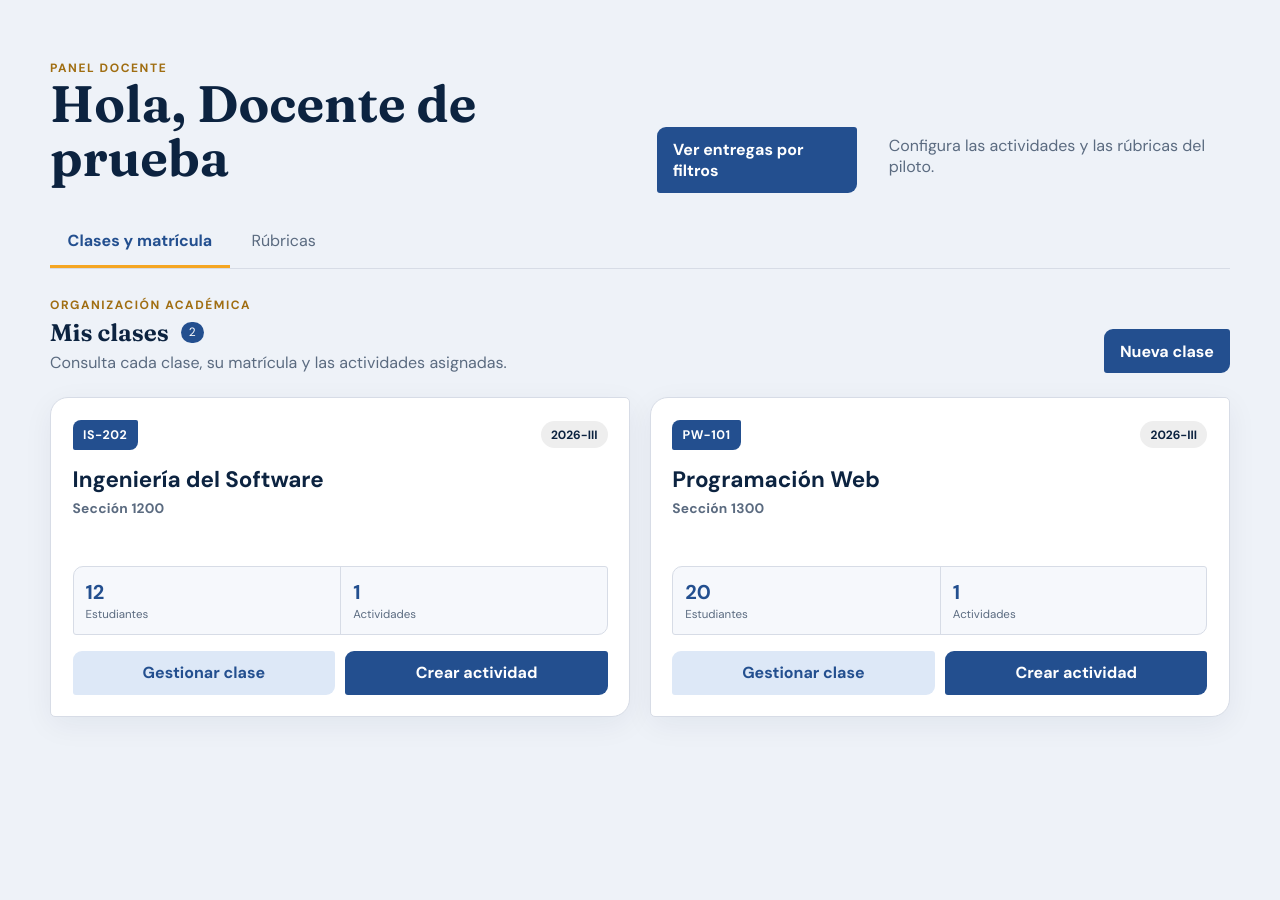
TeacherDashboard - organización y eliminación de actividades › muestra dentro de la clase únicamente sus actividades
Click the button "Gestionar clase" below "Sección 1200".
click(204, 673)  # box [73,651,335,695]
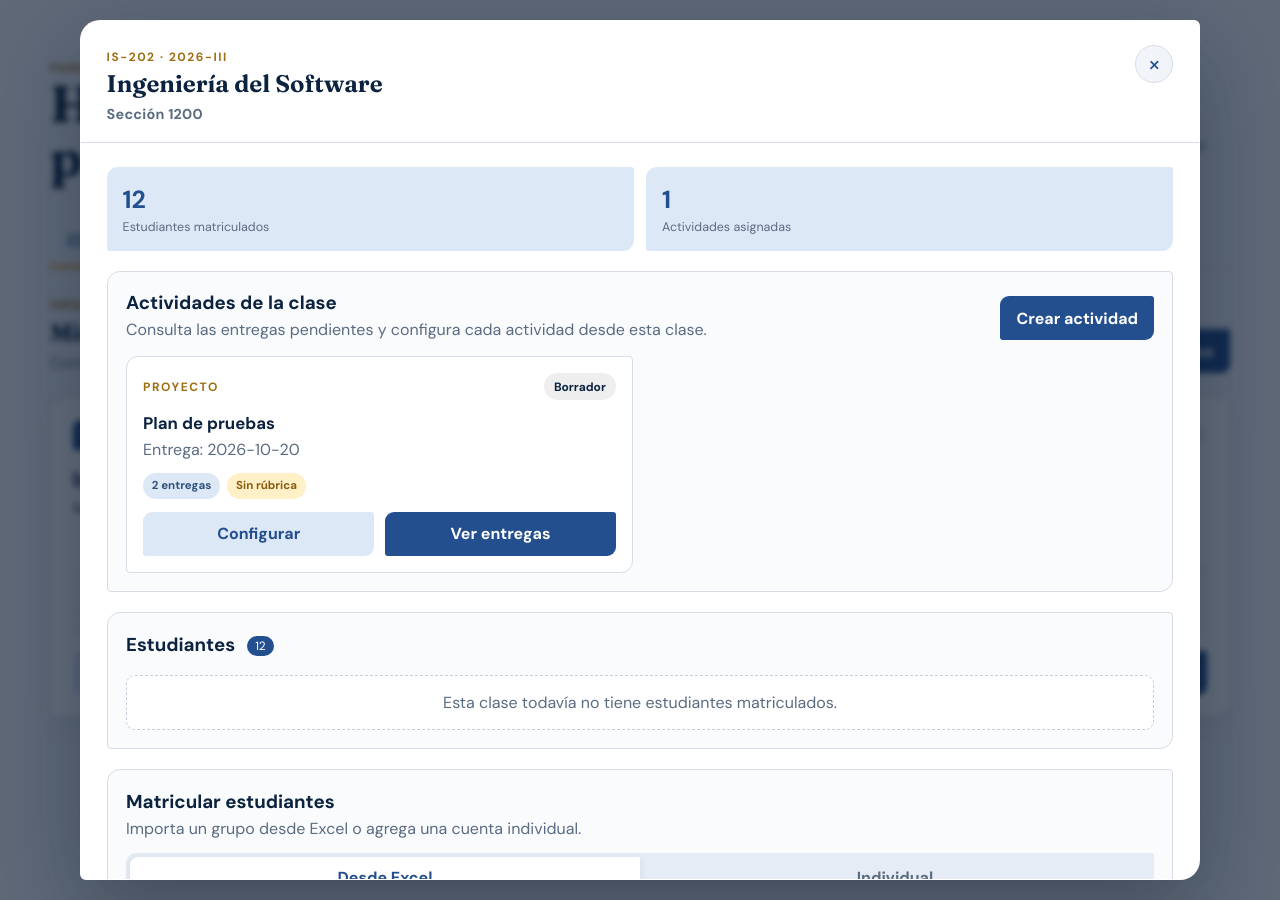
Expected: the element with class "class-activities-dashboard" shows "Plan de pruebas", [143,412,275,434]
Expected: the element with class "class-activities-dashboard" shows "2 entregas", [152,478,211,493]
